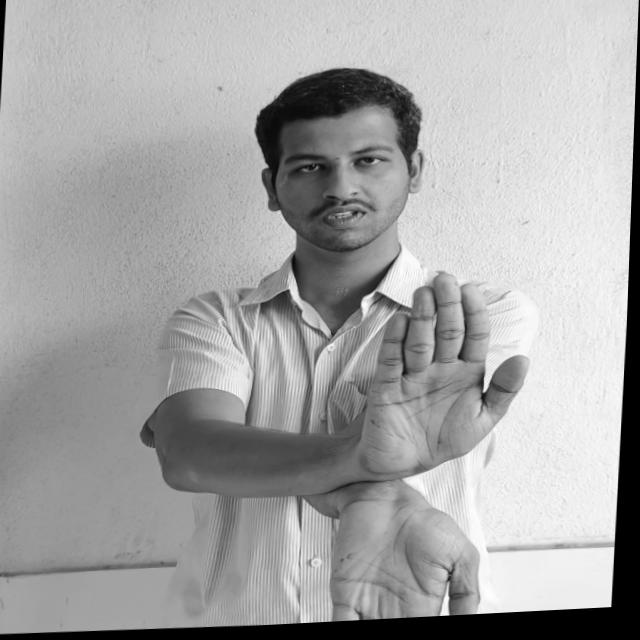Morning: (339, 272, 540, 625)
